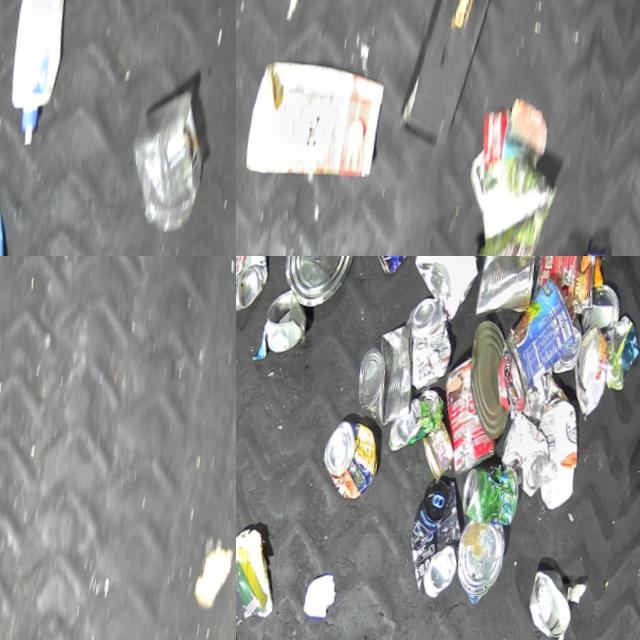can: (497, 270, 584, 395), (434, 352, 512, 476), (406, 475, 475, 598), (352, 315, 426, 426), (460, 316, 523, 436), (398, 293, 461, 390), (320, 417, 387, 499), (497, 408, 557, 496), (455, 517, 514, 604), (277, 256, 360, 309), (569, 319, 614, 415), (460, 458, 524, 525), (474, 256, 541, 319), (529, 256, 603, 311), (527, 566, 582, 640), (389, 383, 447, 453), (261, 285, 312, 351), (419, 417, 461, 479), (580, 279, 624, 333), (236, 256, 276, 312), (554, 311, 585, 374), (367, 256, 430, 277)
